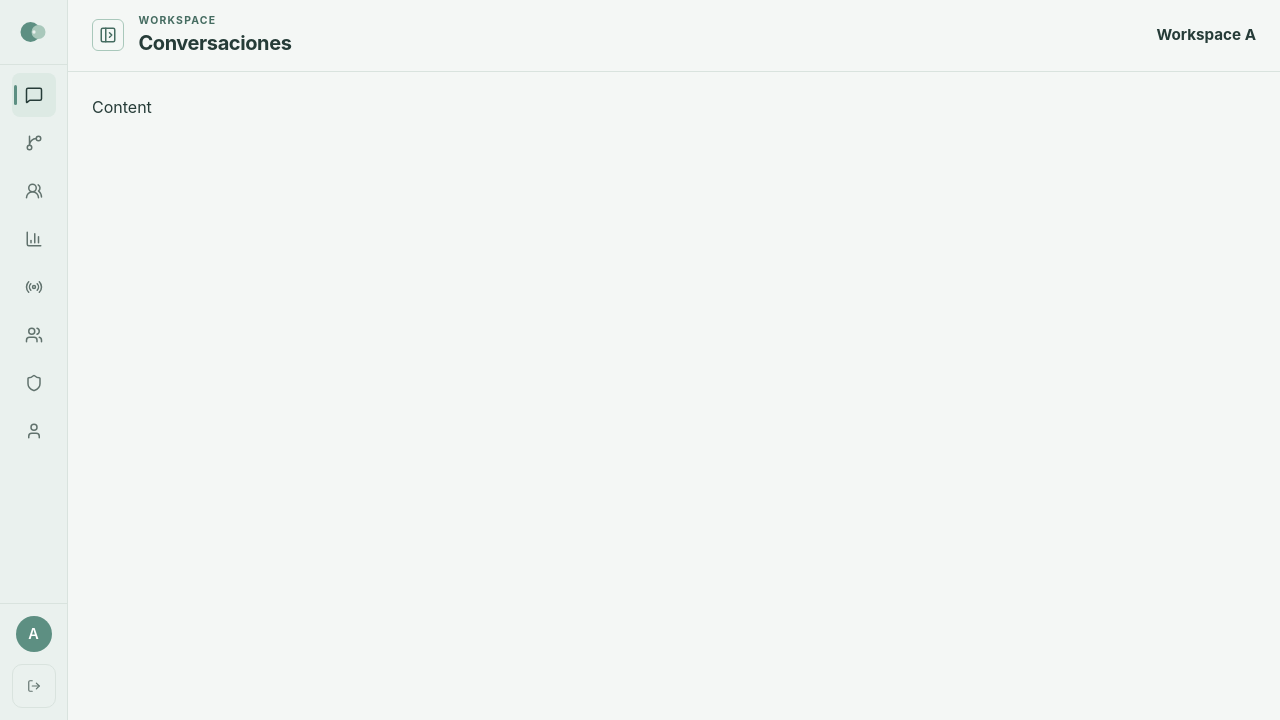
Scenario: Layout Component › Desktop Mode (> 768px) › honors initial collapsed state from localStorage
This screenshot has width=1280, height=720.
Click the button with test id "topbar-sidebar-expand-btn" at coordinates (108, 36), box [92,20,124,52]
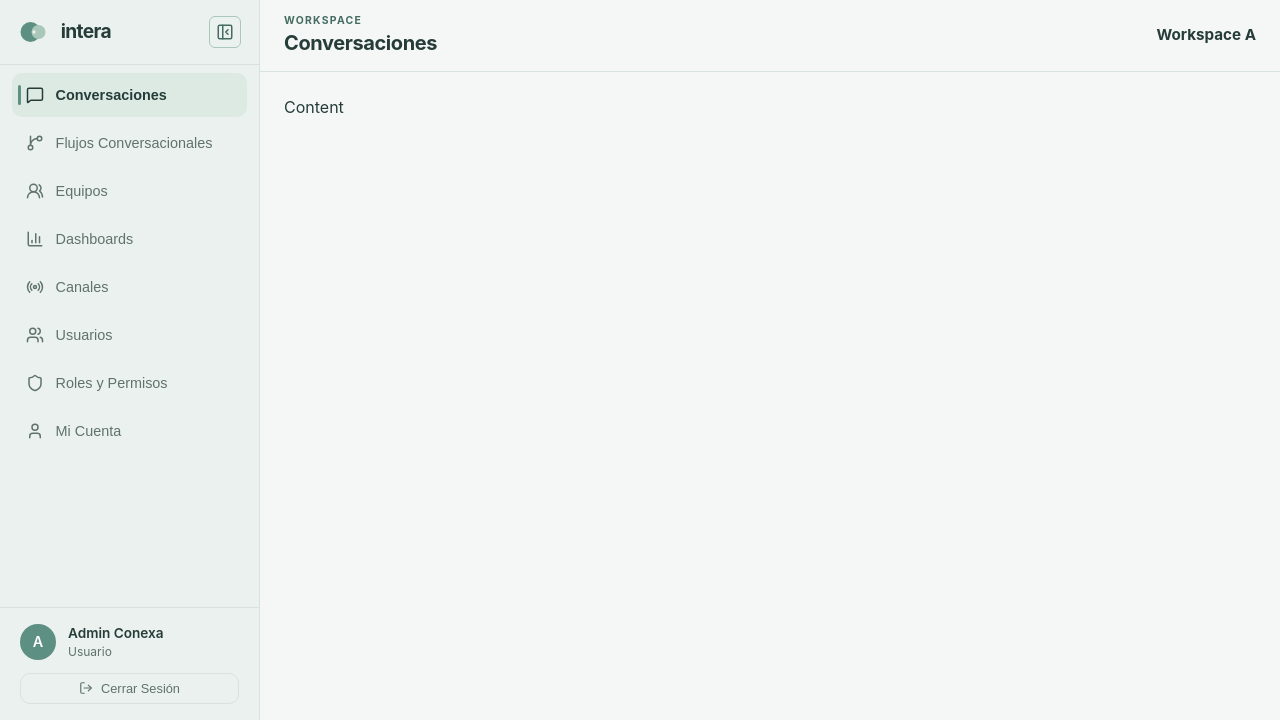
Check: the element with test id "sidebar" does not have class "collapsed", box [0,0,260,719]
